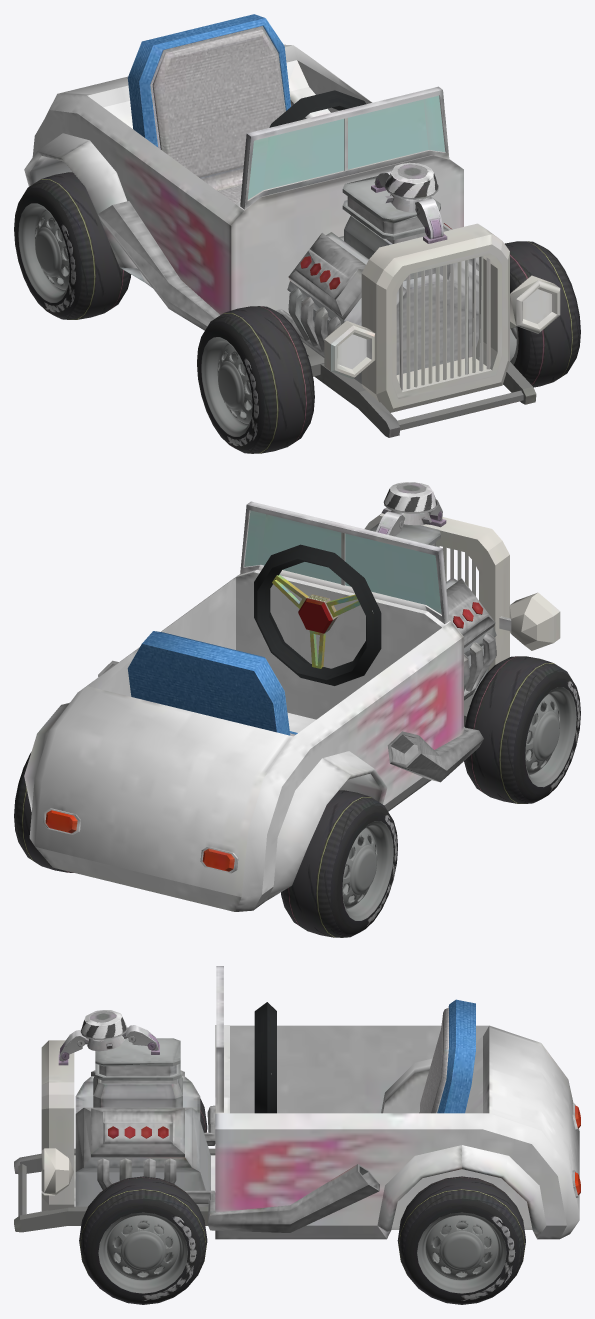
The model's file is 13-Hotrod-Stock-White.glb.
3 views of the same model, one above another, from view 1: azimuth 30°, elevation 25°; view 2: azimuth 150°, elevation 25°; view 3: azimuth 270°, elevation 25° (orthographic). The views are drawn at different scales.
Parts seen in each view (by area): view 1: Hotrod.001, Tire (×3), Engine_009, Regular, Aero (×2), Weapon_Mount.1-Default_OBJ_3, Torus, arm1.2-Default_OBJ_3; view 2: Hotrod.001, Tire (×3), Regular, Aero (×2), Engine_009, Torus, INT_WHEEL_005, Weapon_Mount.1-Default_OBJ_3; view 3: Hotrod.001, Engine_009, Tire (×2), Aero (×2), Regular, Torus, Weapon_Mount.1-Default_OBJ_3, arm1.3-Default_OBJ_3, arm1.2-Default_OBJ_3.
Part boxes in pixels (x1,y1,x2,y2): Hotrod.001: (24, 44, 560, 437); Tire (×3): (14, 172, 580, 453); Engine_009: (98, 176, 478, 383); Regular: (127, 14, 290, 204); Aero (×2): (18, 203, 252, 436); Weapon_Mount.1-Default_OBJ_3: (384, 162, 438, 212); Torus: (269, 90, 366, 127); arm1.2-Default_OBJ_3: (415, 198, 443, 239); Hotrod.001: (24, 501, 560, 911); Tire (×3): (14, 656, 580, 937); Regular: (127, 631, 297, 736); Aero (×2): (342, 687, 576, 920); Engine_009: (98, 523, 496, 782); Torus: (254, 544, 381, 685); INT_WHEEL_005: (272, 574, 360, 668); Weapon_Mount.1-Default_OBJ_3: (381, 482, 437, 525); Hotrod.001: (14, 966, 580, 1239); Engine_009: (75, 1038, 379, 1232); Tire (×2): (79, 1176, 525, 1304); Aero (×2): (98, 1212, 506, 1293); Regular: (419, 999, 475, 1113); Torus: (254, 1002, 276, 1113); Weapon_Mount.1-Default_OBJ_3: (80, 1010, 127, 1051); arm1.3-Default_OBJ_3: (126, 1025, 158, 1050); arm1.2-Default_OBJ_3: (59, 1030, 85, 1061).
Size of the model in its own units: 4.72 by 3.77 by 8.22.
8 materials, 8 textured.
